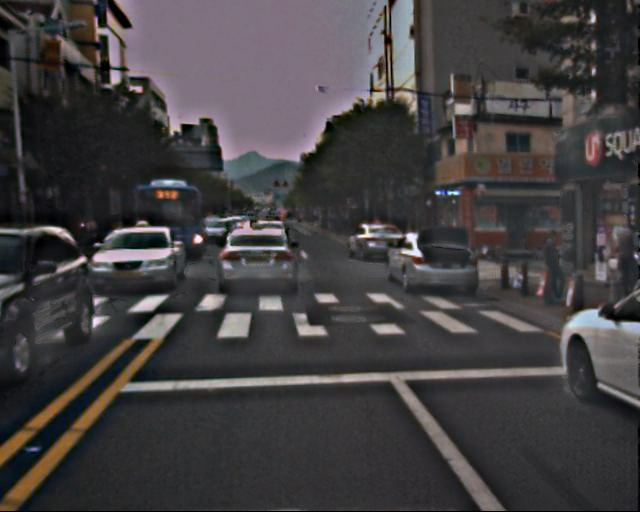person: (613, 223, 640, 301), (541, 229, 570, 299)
